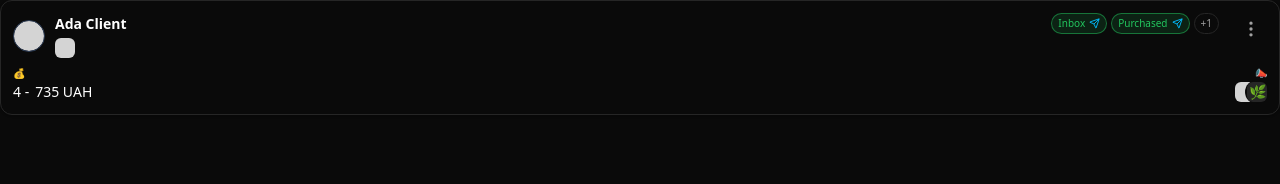
Test: CrmContactCard › shows every folder tag from the compact +N control
Click the heading named "Show all 3 contact tags": (1206, 24) [1194,13,1219,34]
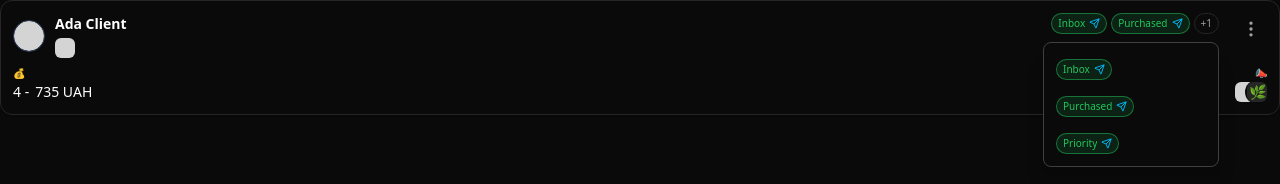
expect the text "Priority" is shown: met, box [1063,136,1097,151]
